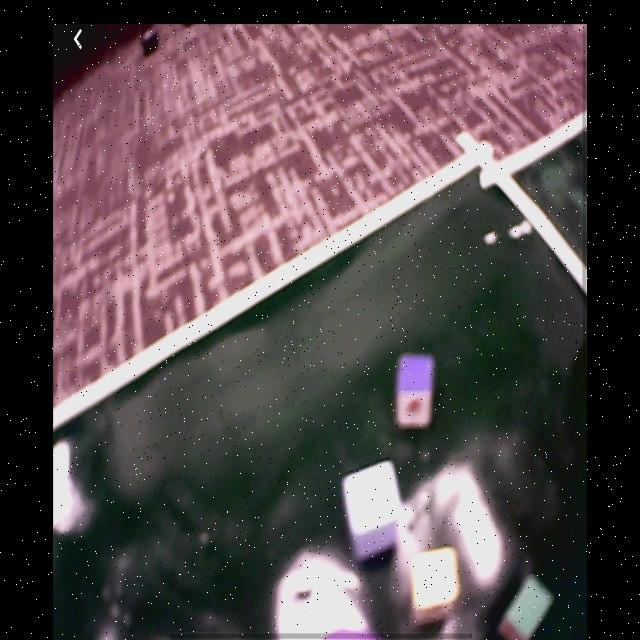ball: (144, 31, 160, 59)
